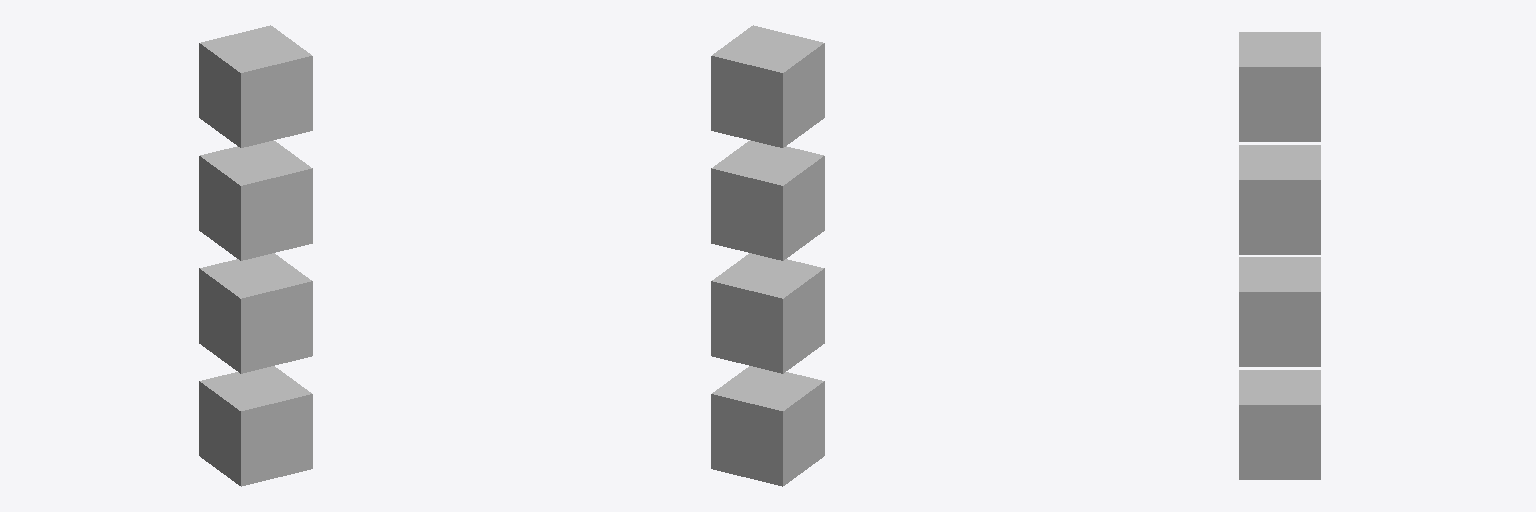
Rendered from four_cubes.obj.
3 views of the same model, side by side, from view 1: azimuth 30°, elevation 25°; view 2: azimuth 150°, elevation 25°; view 3: azimuth 270°, elevation 25° (orthographic).
Parts seen in each view (by area): view 1: Cube.003, Cube, Cube.002, Cube.001; view 2: Cube.003, Cube, Cube.002, Cube.001; view 3: Cube, Cube.001, Cube.002, Cube.003.
Boxes of the visible parts, <box> form: Cube.003: <box>199,25,312,147</box>; Cube: <box>199,253,312,373</box>; Cube.002: <box>199,140,312,260</box>; Cube.001: <box>199,366,312,486</box>; Cube.003: <box>711,25,824,147</box>; Cube: <box>711,253,824,373</box>; Cube.002: <box>711,140,824,260</box>; Cube.001: <box>711,366,824,486</box>; Cube: <box>1239,257,1320,366</box>; Cube.001: <box>1239,370,1320,479</box>; Cube.002: <box>1239,145,1320,254</box>; Cube.003: <box>1239,32,1320,141</box>.
Bounding box in the file's own units: 2 × 11 × 2.